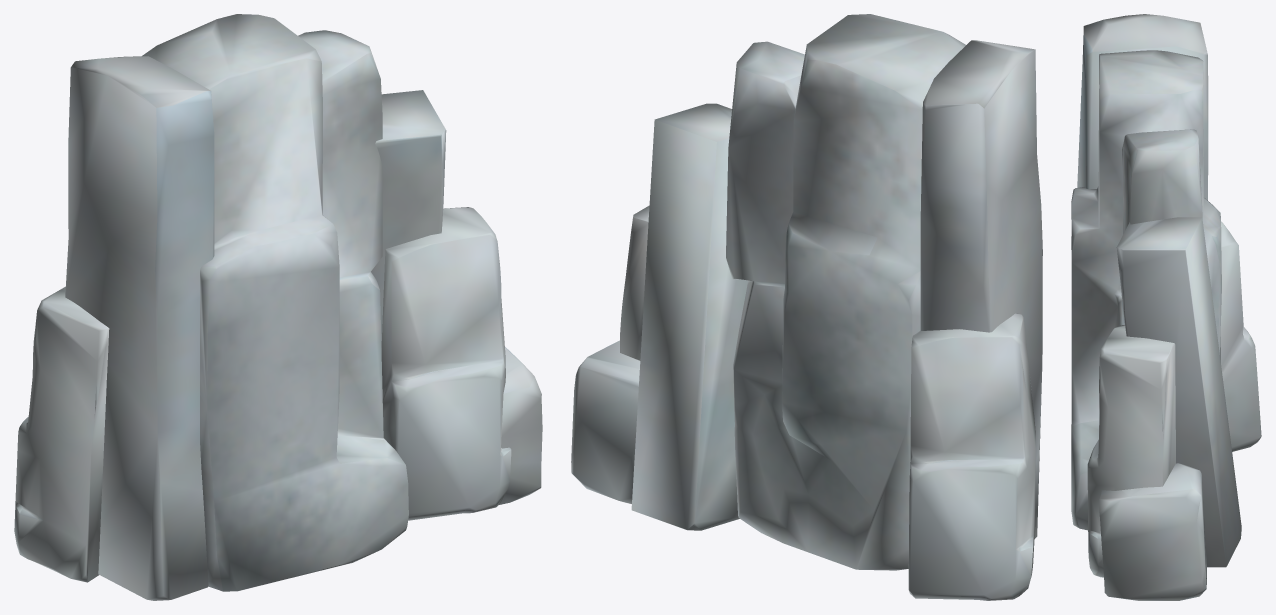
The model's file is P_CubicCliff05.obj.
3 renders of one model, left to right at view 1: azimuth 30°, elevation 25°; view 2: azimuth 150°, elevation 25°; view 3: azimuth 270°, elevation 25°, orthographic. The views are drawn at different scales.
Size of the model in its own units: 20.29 by 20.7 by 8.46.
